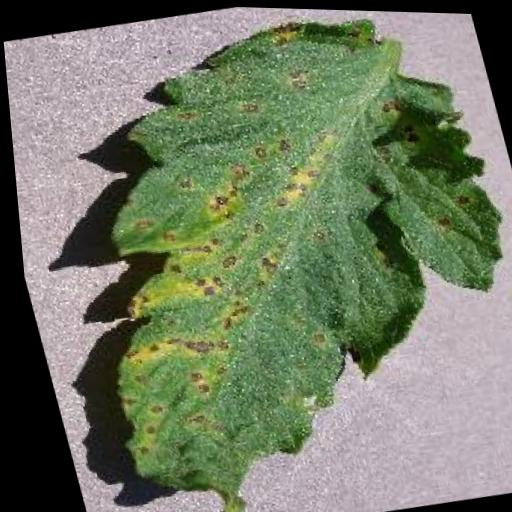Septoria: (18, 0, 512, 512)
